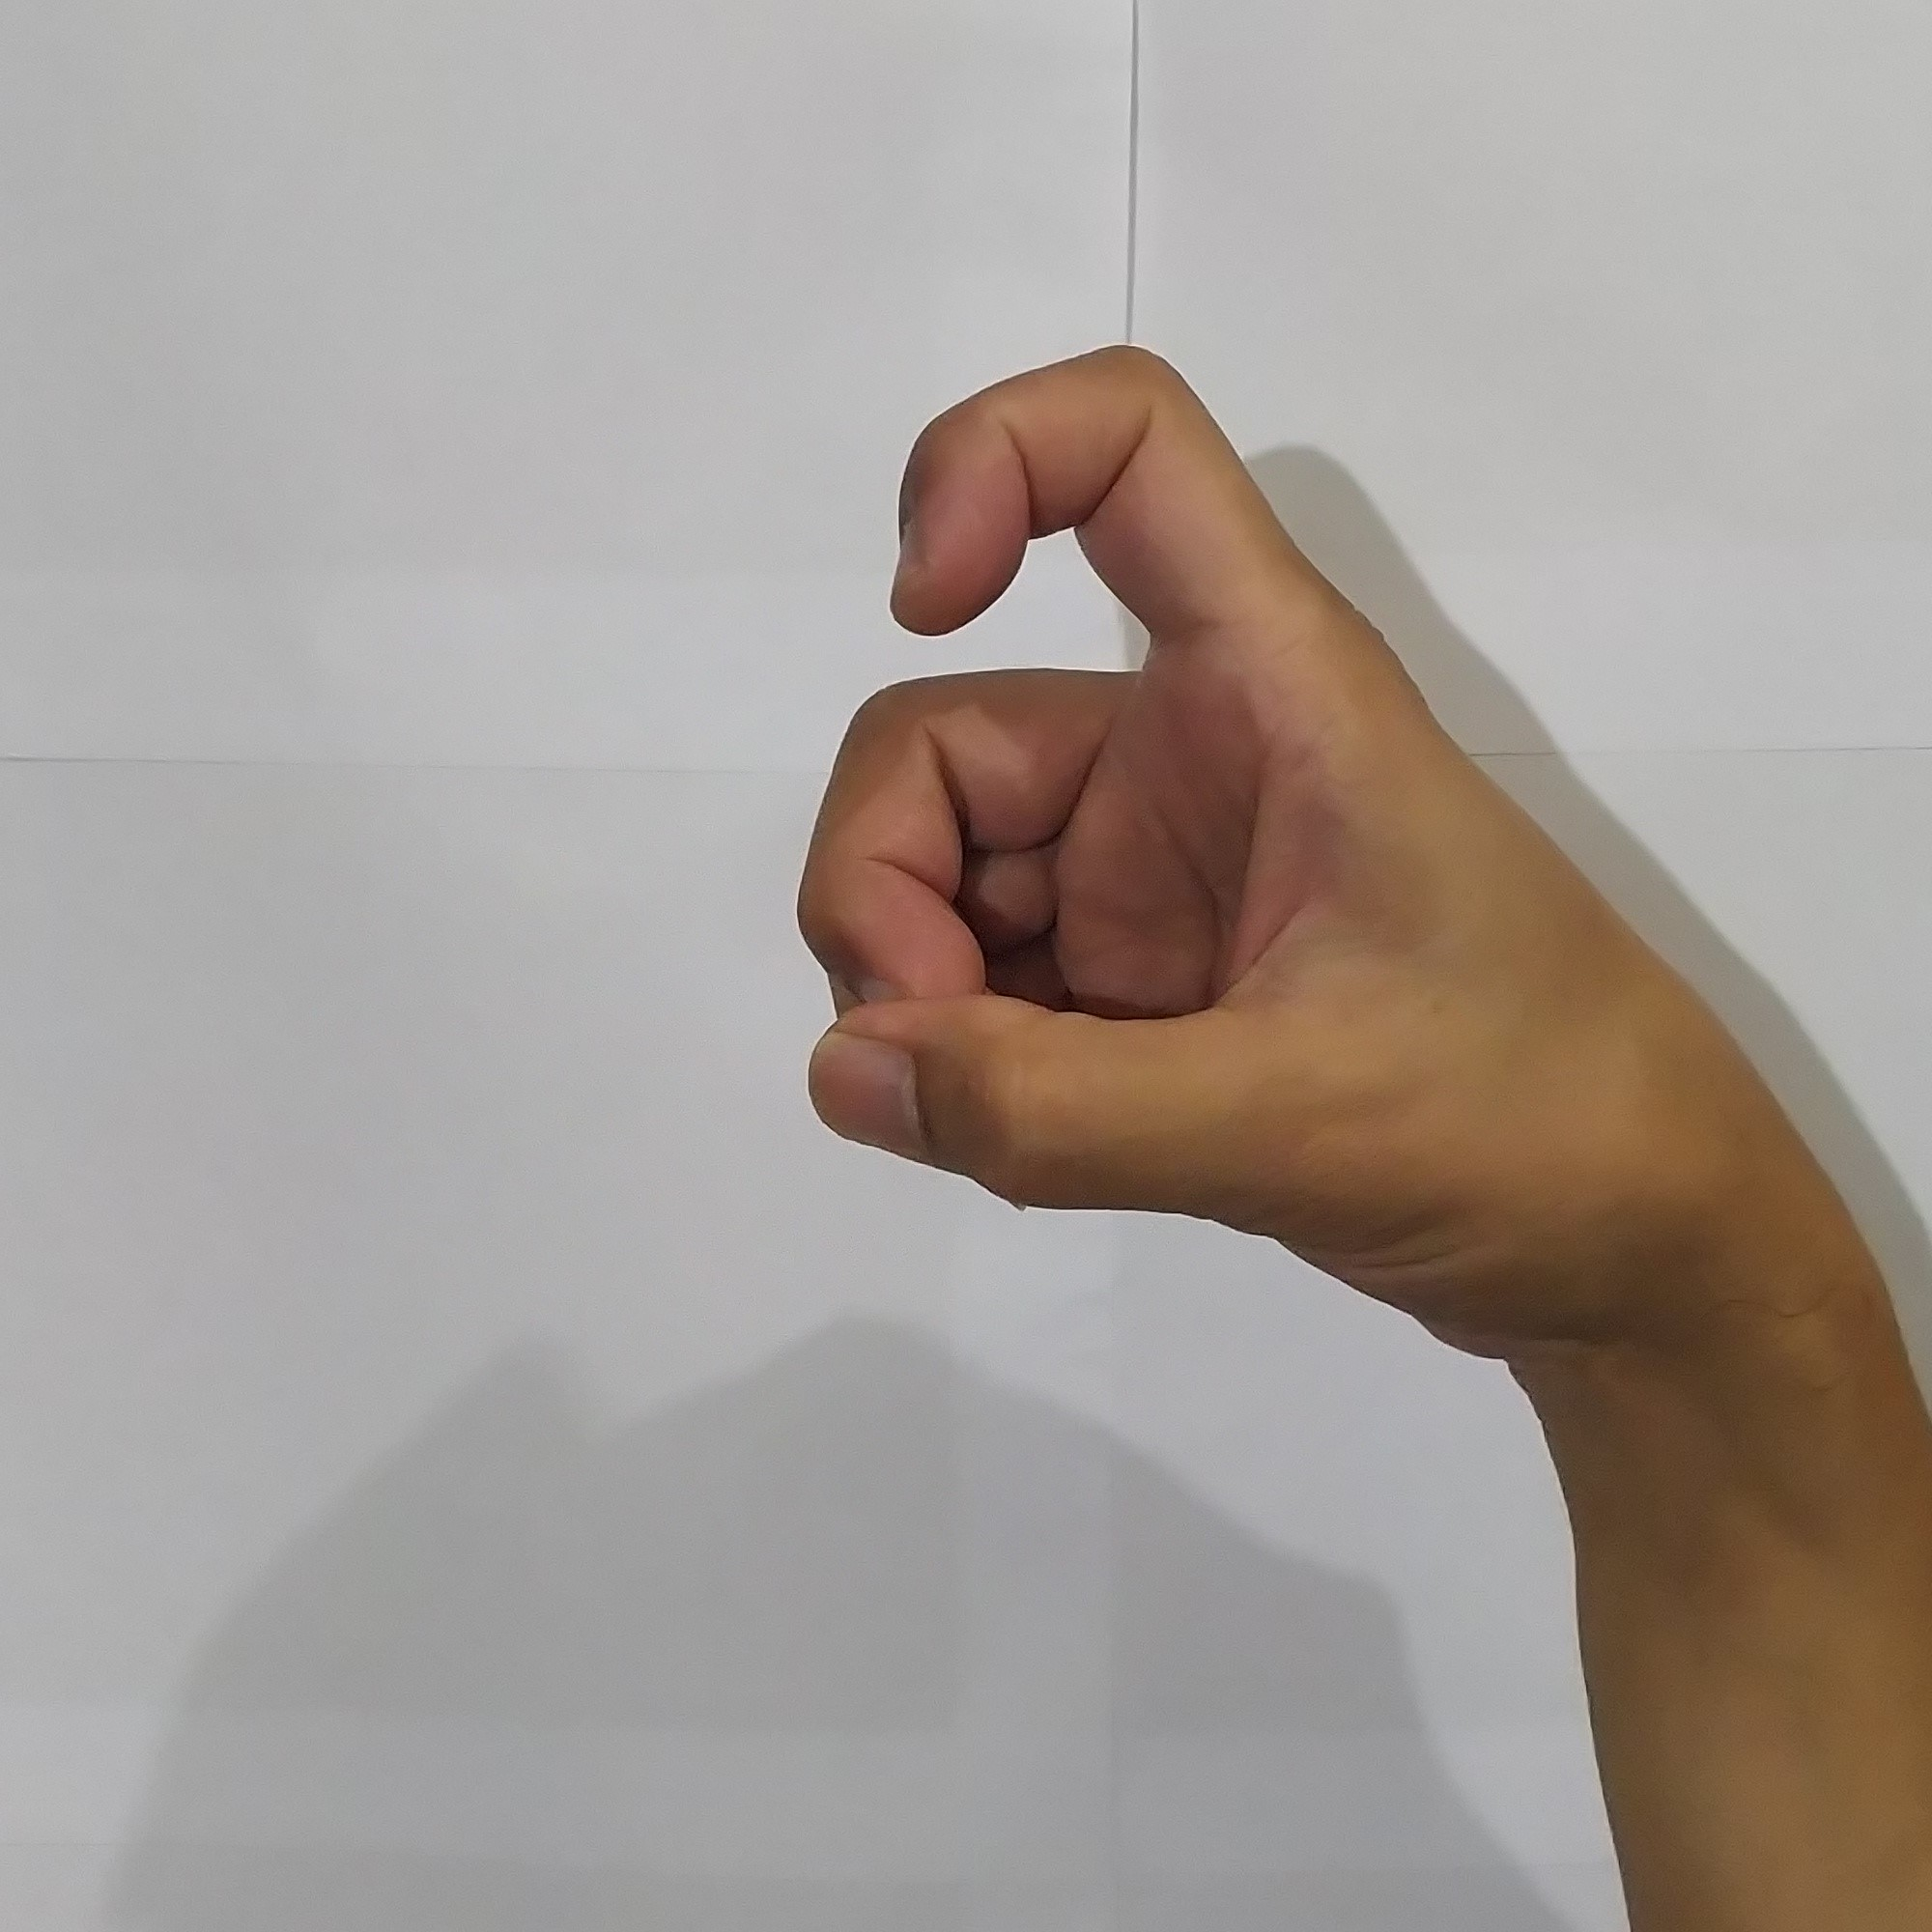X: (759, 310, 1762, 1350)
